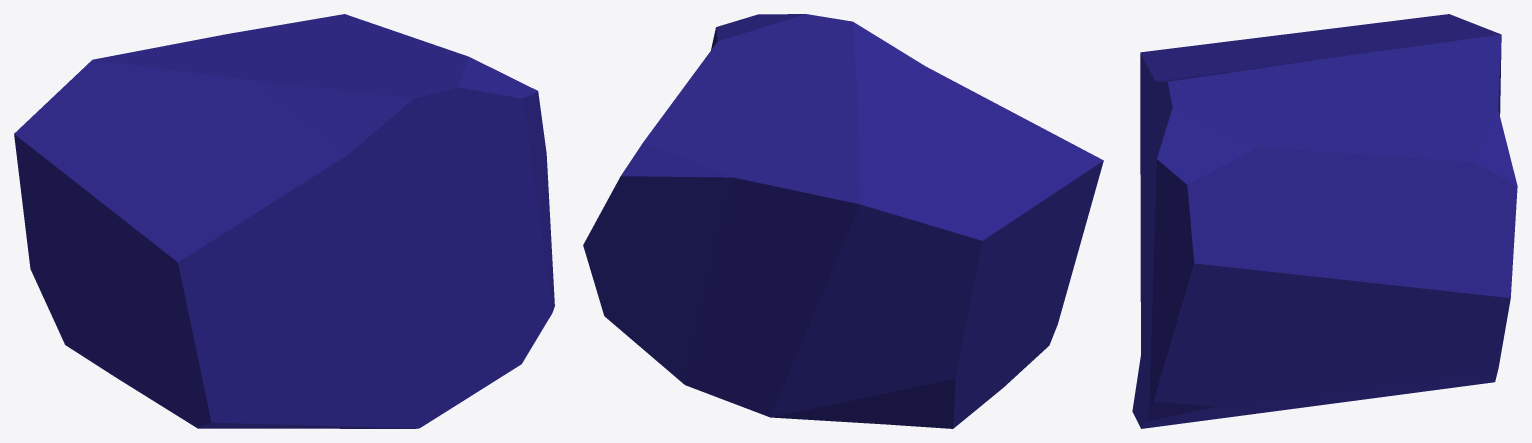
The model's file is rocks5.fbx.
3 views of the same model, side by side, from view 1: azimuth 30°, elevation 25°; view 2: azimuth 150°, elevation 25°; view 3: azimuth 270°, elevation 25° (orthographic). The views are drawn at different scales.
Visible parts, largest first — view 1: Cube.035; view 2: Cube.035; view 3: Cube.035.
Part boxes in pixels (x1,y1,x2,y2): Cube.035: (14, 14, 554, 428); Cube.035: (583, 14, 1103, 428); Cube.035: (1132, 14, 1517, 428).
Size of the model in its own units: 144 by 105 by 109.
